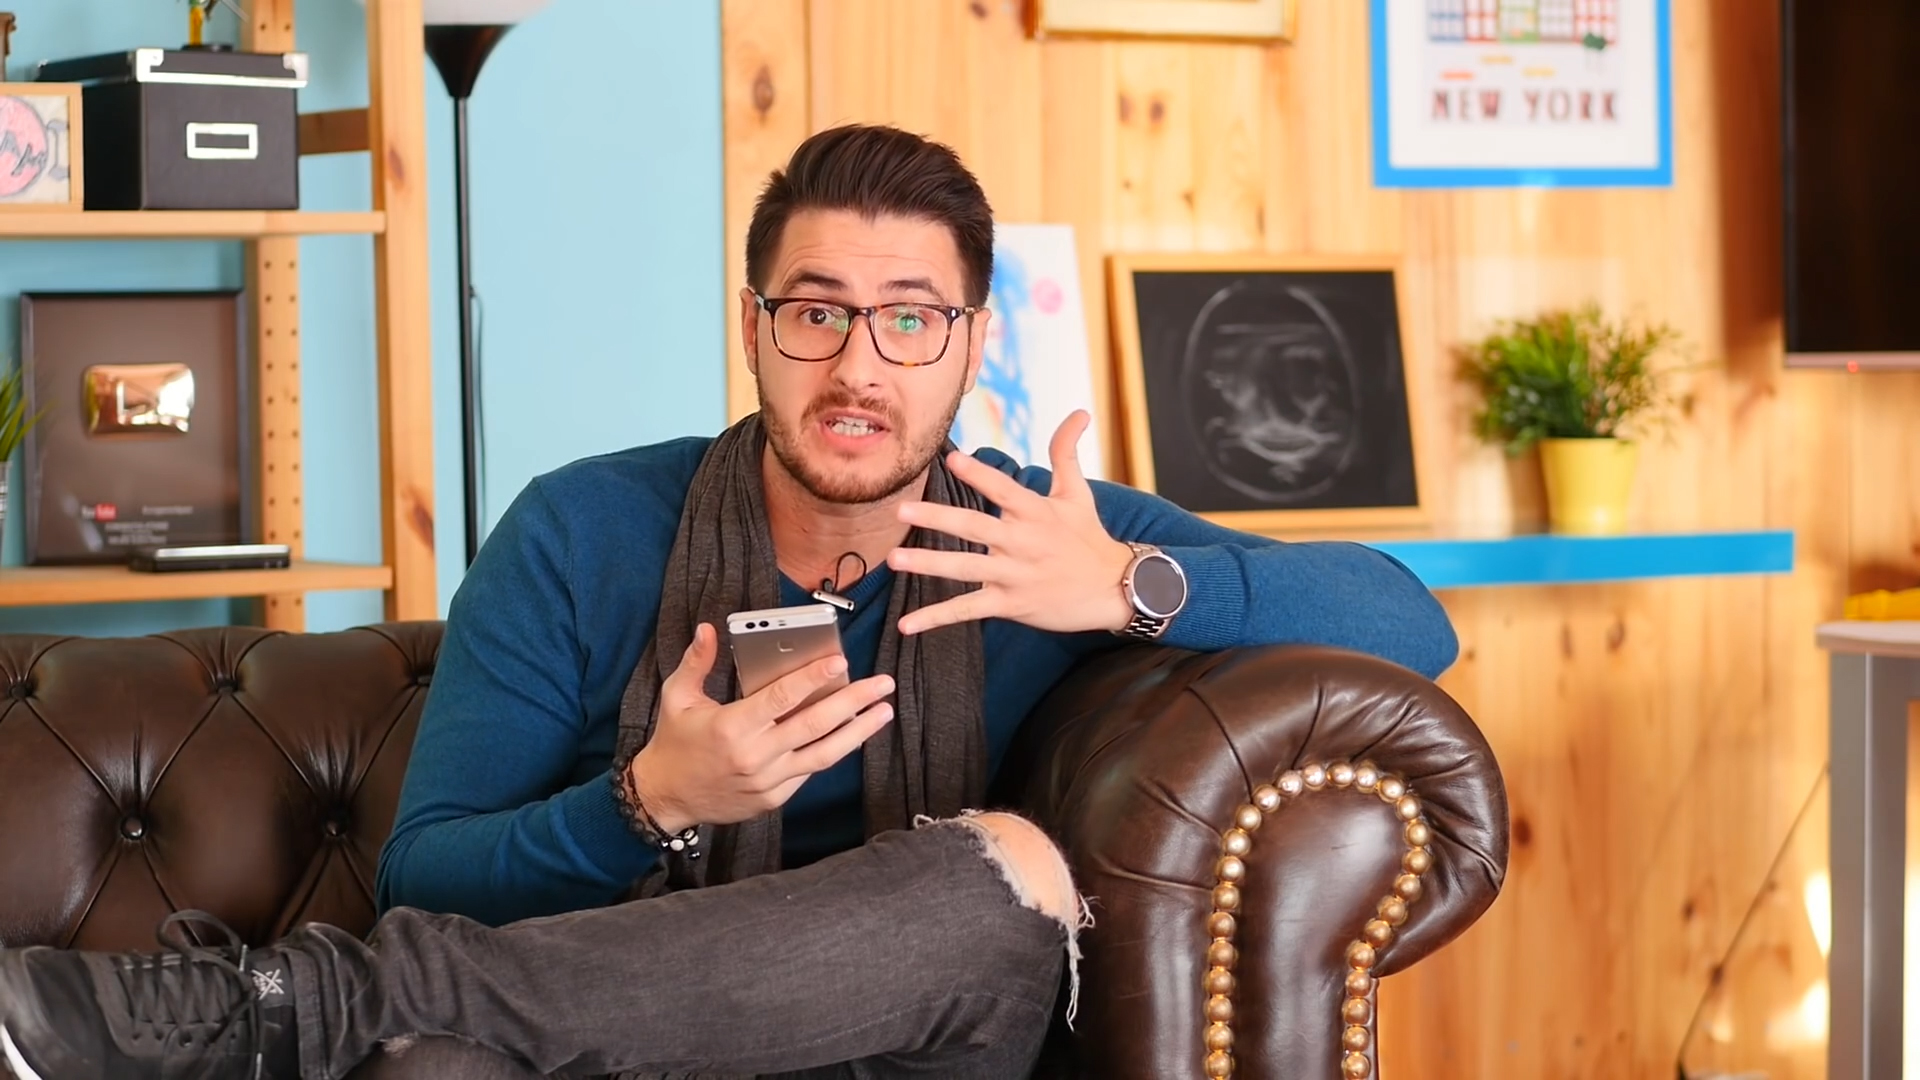smartphone: (724, 601, 862, 752)
